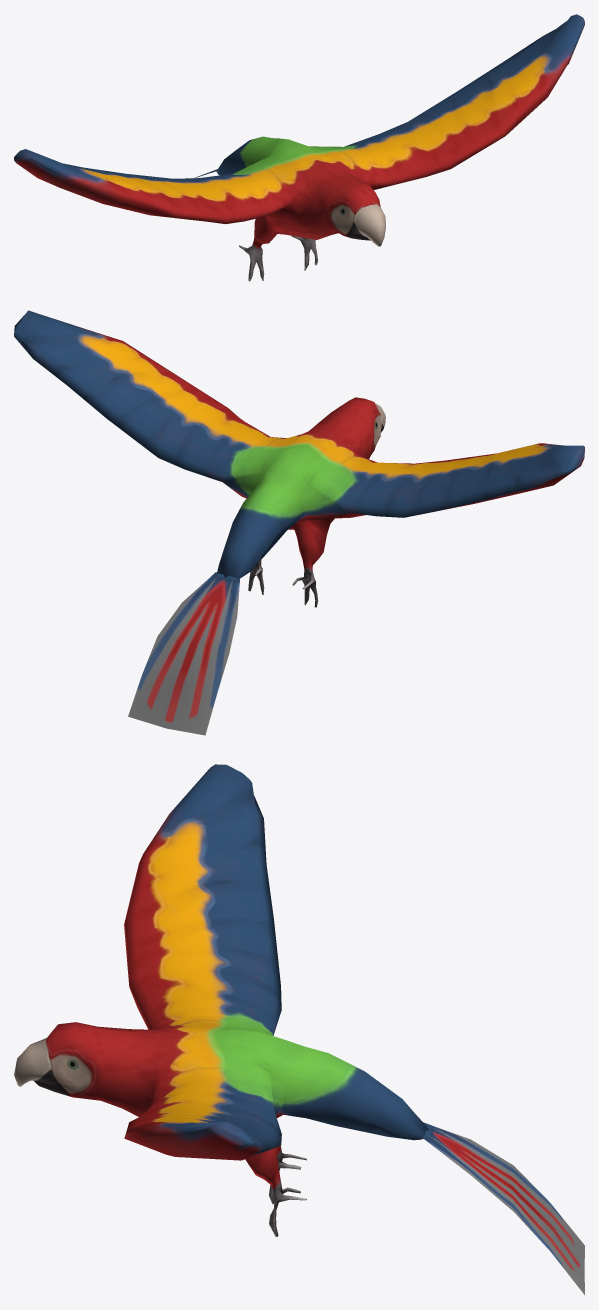
The model's file is scarlet-macaw.glb.
The picture shows the model from 3 angles, top to bottom: view 1: azimuth 30°, elevation 25°; view 2: azimuth 150°, elevation 25°; view 3: azimuth 270°, elevation 25°; orthographic projection. The views are drawn at different scales.
Parts seen in each view (by area): view 1: Object_56; view 2: Object_56; view 3: Object_56.
Part boxes in pixels (x1,y1,x2,y2): Object_56: (14, 14, 584, 281); Object_56: (14, 310, 584, 735); Object_56: (14, 764, 584, 1294).
Bounding box in the file's own units: 0.975 × 0.4106 × 0.6424.
Materials: 1 (1 with a texture image).
